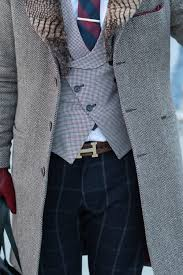F_belt: (58, 132, 122, 163)
